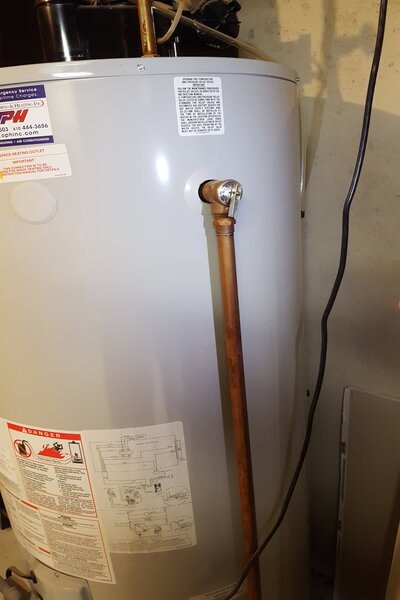valve: (197, 178, 244, 235)
